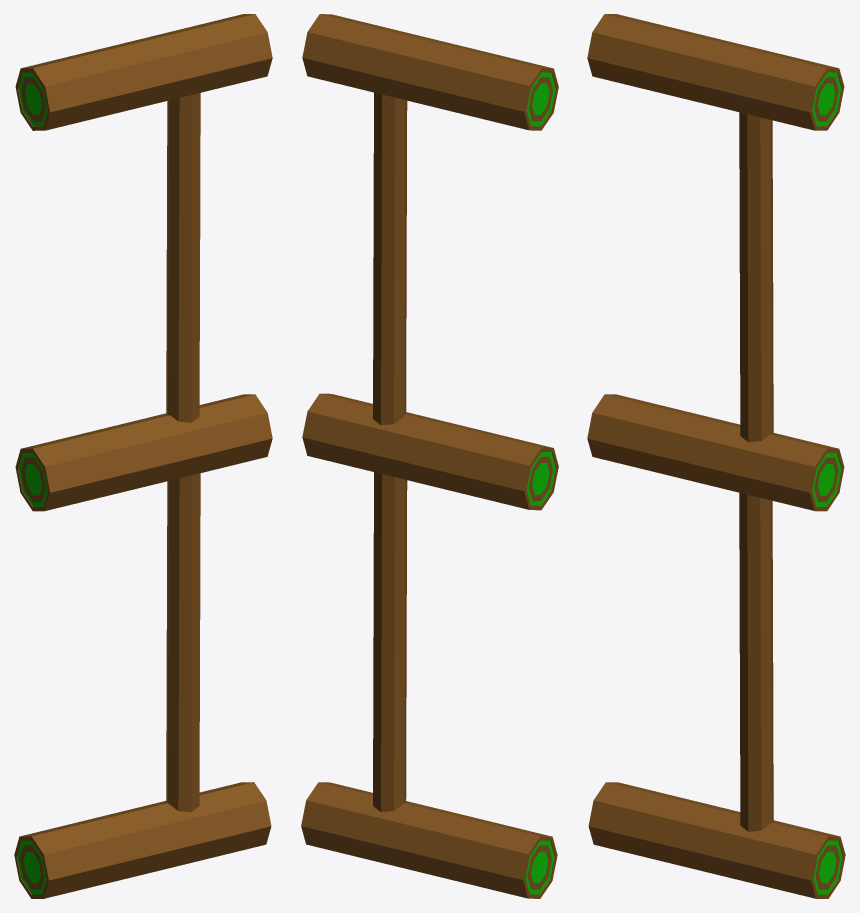
The model's file is BuyFence.fbx.
3 views of the same model, side by side, from view 1: azimuth 30°, elevation 25°; view 2: azimuth 150°, elevation 25°; view 3: azimuth 330°, elevation 25° (orthographic).
Visible parts, largest first — view 1: Torus.016; view 2: Torus.016; view 3: Torus.016.
Boxes of the visible parts, x1=… form: Torus.016: x1=14, y1=14, x2=272, y2=898; Torus.016: x1=301, y1=14, x2=558, y2=898; Torus.016: x1=587, y1=14, x2=845, y2=898.
Size of the model in its own units: 81.55 by 1042 by 292.
